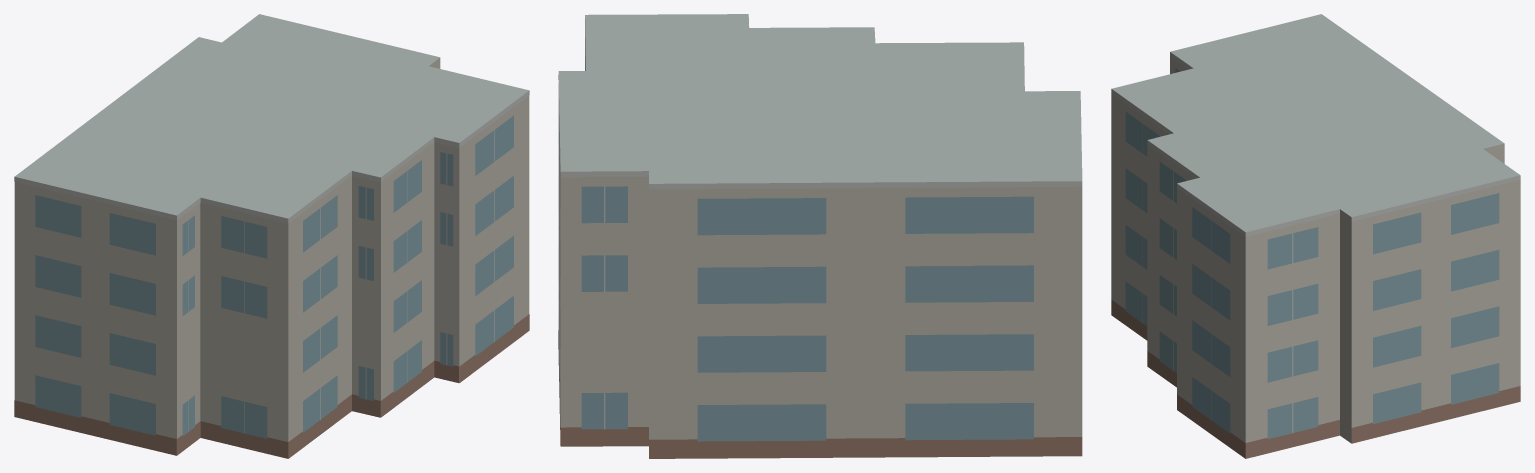
File: survey-upis-32714566.glb
3 views of the same model, side by side, from view 1: azimuth 30°, elevation 25°; view 2: azimuth 150°, elevation 25°; view 3: azimuth 270°, elevation 25° (orthographic). The views are drawn at different scales.
Parts seen in each view (by area): view 1: survey-upis-32714566.tmp; view 2: survey-upis-32714566.tmp; view 3: survey-upis-32714566.tmp.
Boxes of the visible parts, bbox=[...] form: survey-upis-32714566.tmp: bbox=[14, 14, 529, 458]; survey-upis-32714566.tmp: bbox=[558, 14, 1082, 458]; survey-upis-32714566.tmp: bbox=[1111, 14, 1520, 458].
Size of the model in its own units: 24.7 by 11.94 by 19.55.
